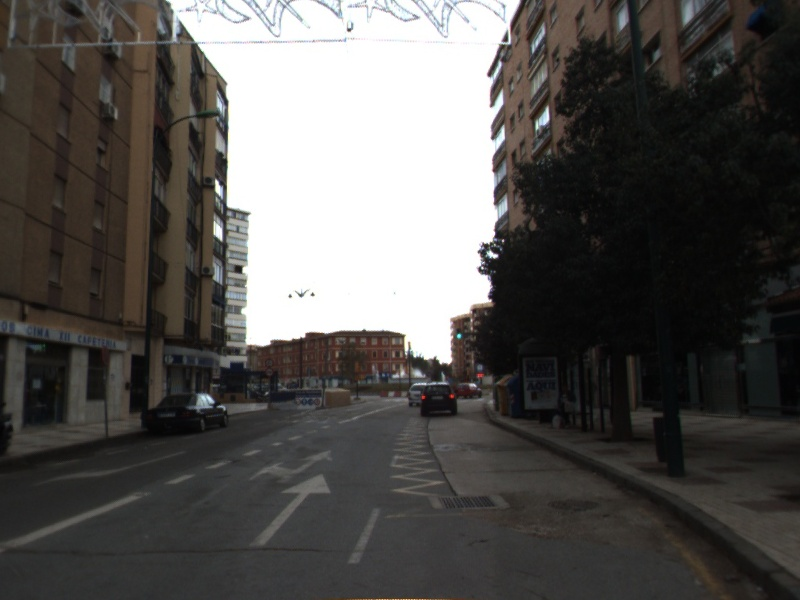STRAIGHT: (246, 471, 333, 549)
STRAIGHT_LEFT: (246, 448, 334, 485)
